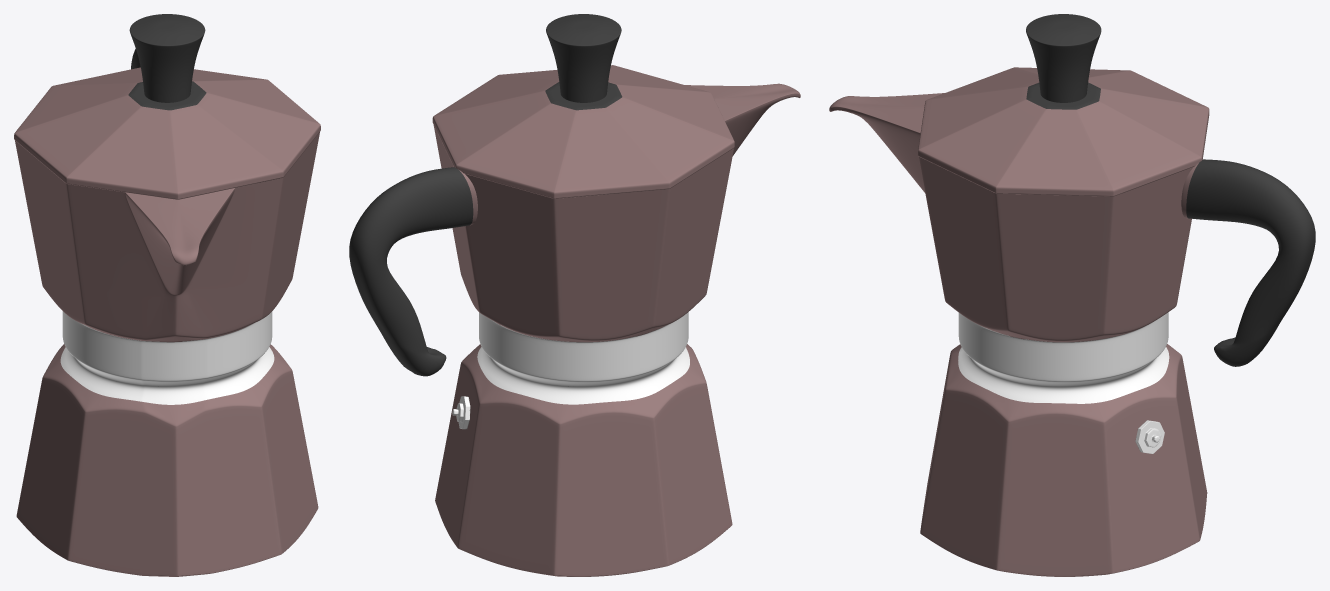
File: kofevarka.fbx
3 renders of one model, left to right at view 1: azimuth 30°, elevation 25°; view 2: azimuth 150°, elevation 25°; view 3: azimuth 270°, elevation 25°, orthographic.
Visible parts, largest first — view 1: pCylinder17; view 2: pCylinder17; view 3: pCylinder17.
Boxes of the visible parts, x1,y1,x2,y2 form: pCylinder17: (14, 14, 320, 576); pCylinder17: (349, 14, 800, 576); pCylinder17: (829, 14, 1315, 576).
Size of the model in its own units: 16.55 by 31.09 by 27.64.
